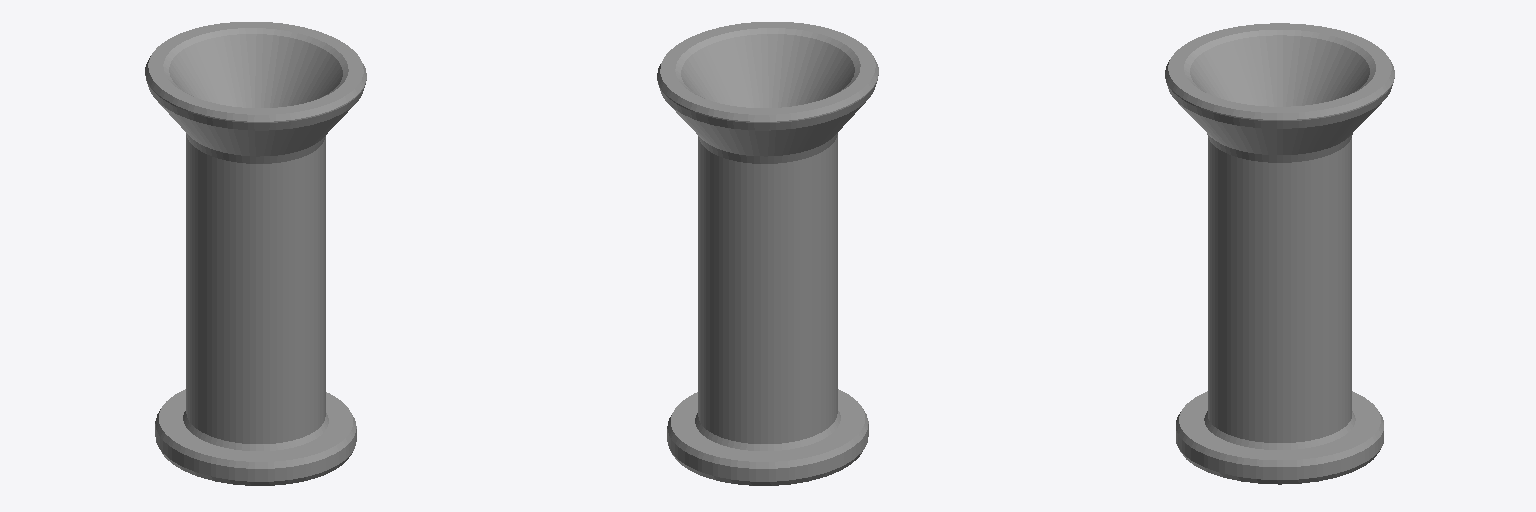
The model's file is Säule.obj.
3 renders of one model, left to right at view 1: azimuth 30°, elevation 25°; view 2: azimuth 150°, elevation 25°; view 3: azimuth 270°, elevation 25°, orthographic.
Visible parts, largest first — view 1: Circle; view 2: Circle; view 3: Circle.
Part boxes in pixels (x1,y1,x2,y2): Circle: (145,22,366,485); Circle: (657,22,878,485); Circle: (1165,23,1394,484).
Size of the model in its own units: 1.79 by 3.39 by 1.88.